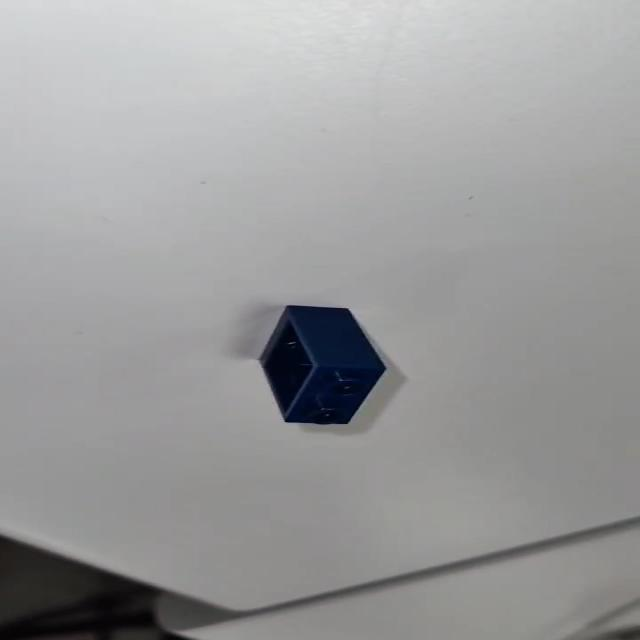W2x1x2: (256, 296, 396, 435)
